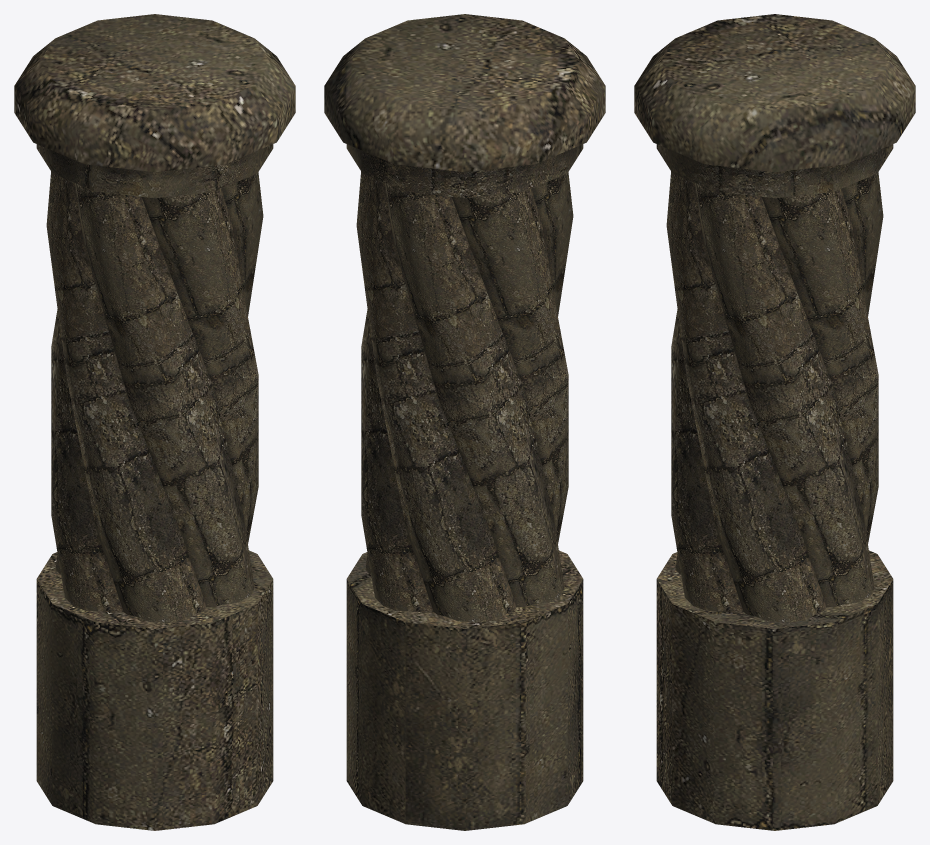
The model's file is NC_stairs_post.DAE.
3 renders of one model, left to right at view 1: azimuth 30°, elevation 25°; view 2: azimuth 150°, elevation 25°; view 3: azimuth 270°, elevation 25°, orthographic.
Visible parts, largest first — view 1: NC_stair_post; view 2: NC_stair_post; view 3: NC_stair_post.
Boxes of the visible parts, x1=… form: NC_stair_post: x1=14, y1=14, x2=295, y2=830; NC_stair_post: x1=324, y1=14, x2=605, y2=830; NC_stair_post: x1=634, y1=14, x2=915, y2=830.
Bounding box in the file's own units: 0.5464 × 0.5464 × 1.54.
